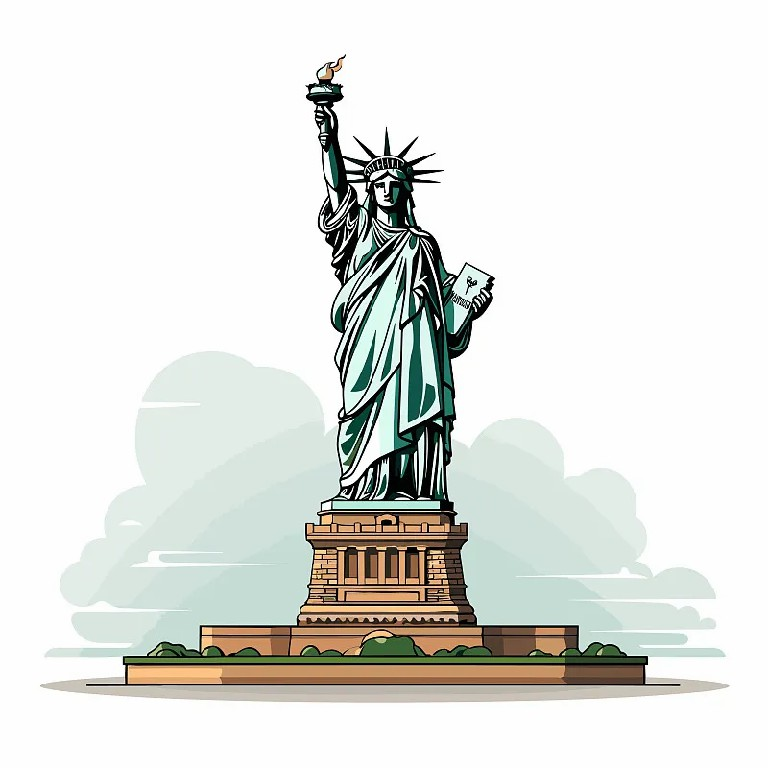SL: (297, 54, 495, 629)
